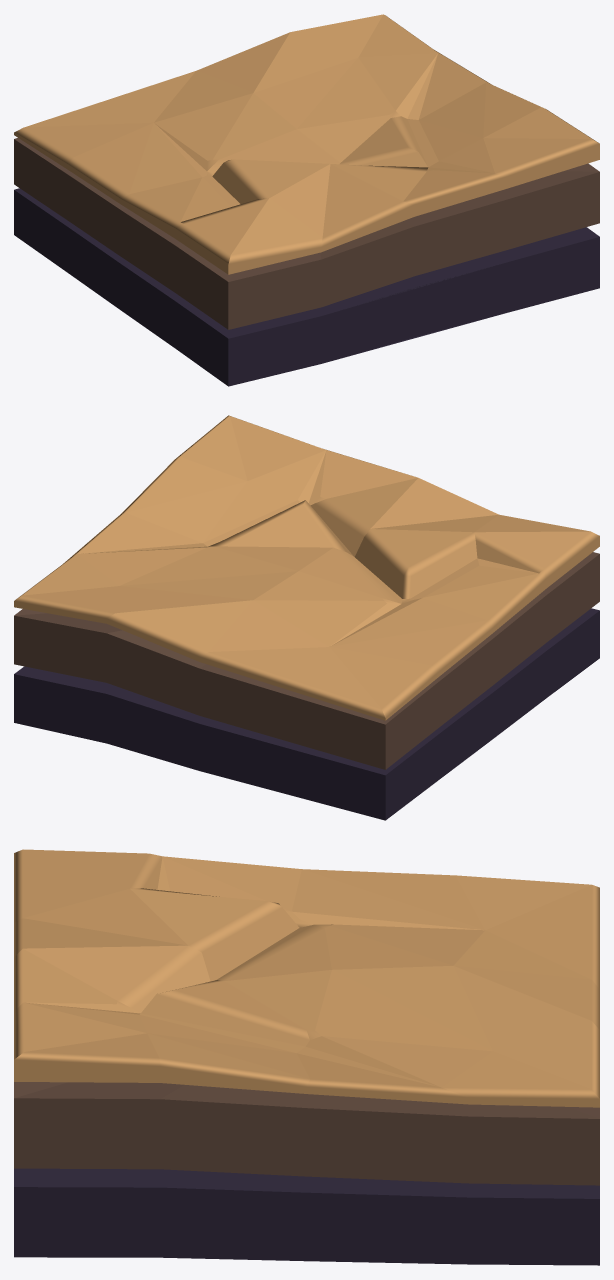
Rendered from ground_01.glb.
The picture shows the model from 3 angles, top to bottom: view 1: azimuth 30°, elevation 25°; view 2: azimuth 150°, elevation 25°; view 3: azimuth 270°, elevation 25°; orthographic projection. The views are drawn at different scales.
Parts seen in each view (by area): view 1: Plane.007; view 2: Plane.007; view 3: Plane.007.
Part boxes in pixels (bbox=[...]): Plane.007: bbox=[14, 14, 599, 386]; Plane.007: bbox=[14, 415, 599, 820]; Plane.007: bbox=[14, 849, 599, 1265].
Size of the model in its own units: 40 by 16.56 by 40.
Materials: 1 (1 with a texture image).
